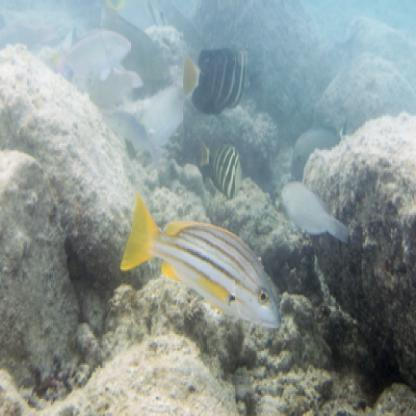Lutjanidae -Snappers-: (114, 179, 288, 338)
Pomacanthidae -Angelfishes-: (176, 37, 258, 123)
